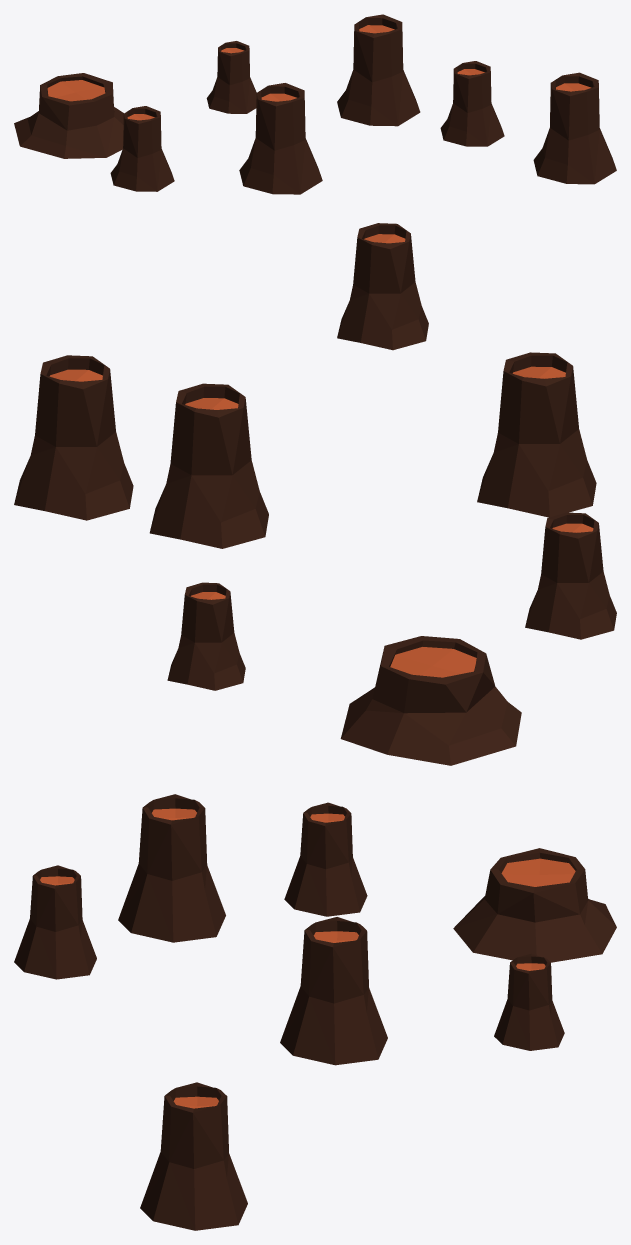
Rendered from grupo troncos cortados.FBX.
3 renders of one model, top to bottom at view 1: azimuth 30°, elevation 25°; view 2: azimuth 150°, elevation 25°; view 3: azimuth 270°, elevation 25°, orthographic. The views are drawn at different scales.
Parts seen in each view (by area): view 1: tronco003, tronco, tronco005, tronco001, tronco002, tronco004, tronco006; view 2: tronco003, tronco001, tronco005, tronco, tronco002, tronco004, tronco006; view 3: tronco003, tronco, tronco001, tronco005, tronco002, tronco004, tronco006.
Boxes of the visible parts, x1,y1,x2,y2 form: tronco003: (14, 73, 123, 158); tronco: (239, 83, 322, 194); tronco005: (533, 72, 616, 184); tronco001: (337, 14, 420, 126); tronco002: (440, 61, 504, 146); tronco004: (110, 106, 174, 191); tronco006: (206, 41, 256, 113); tronco003: (340, 636, 521, 765); tronco001: (149, 383, 268, 548); tronco005: (14, 355, 133, 520); tronco: (477, 352, 596, 517); tronco002: (337, 223, 428, 350); tronco004: (525, 512, 616, 639); tronco006: (167, 582, 245, 690); tronco003: (453, 848, 616, 962); tronco: (118, 794, 225, 942); tronco001: (280, 917, 387, 1065); tronco005: (140, 1082, 247, 1230); tronco002: (14, 865, 96, 979); tronco004: (284, 802, 367, 916); tronco006: (494, 953, 564, 1050).
Size of the model in its own units: 120 by 43.47 by 102.
